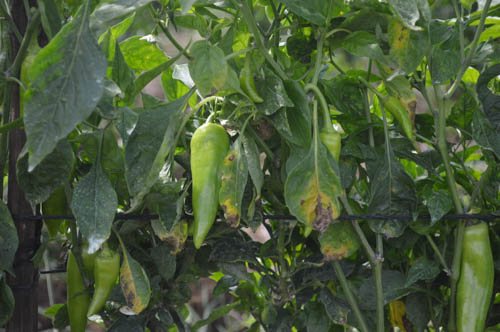ChiliPepper: (184, 125, 226, 248), (457, 222, 492, 330), (66, 248, 94, 330), (92, 255, 121, 316), (385, 97, 418, 140), (317, 131, 342, 159)
